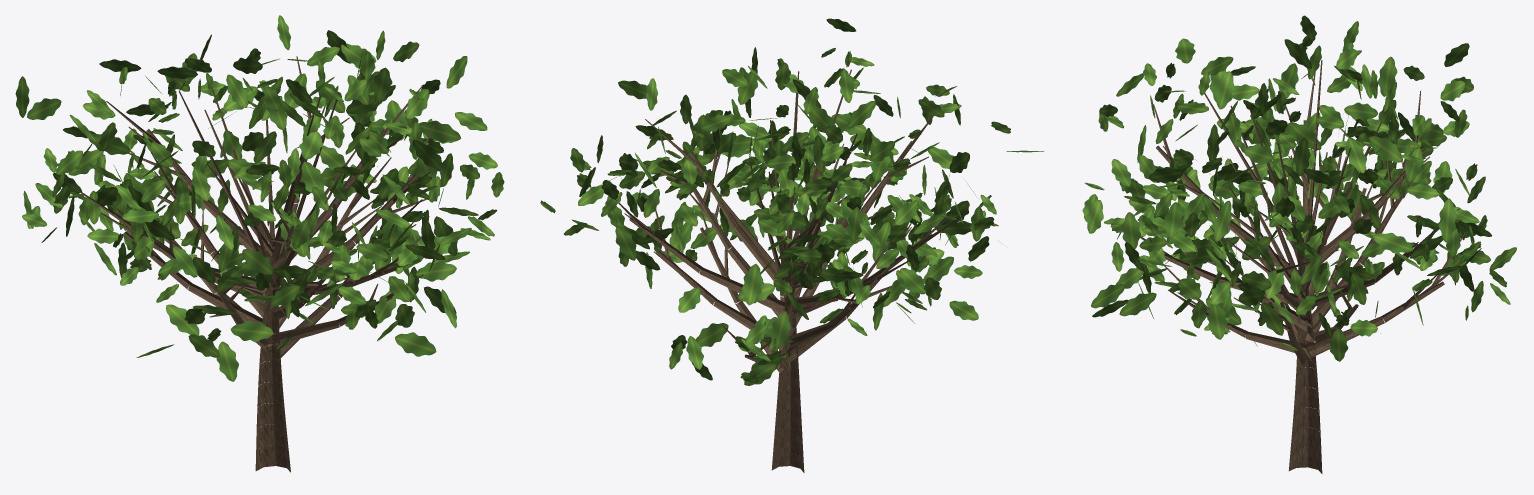
Rendered from oak-distance.glb.
3 renders of one model, left to right at view 1: azimuth 30°, elevation 25°; view 2: azimuth 150°, elevation 25°; view 3: azimuth 270°, elevation 25°, orthographic. The views are drawn at different scales.
Parts seen in each view (by area): view 1: foliage, bark; view 2: foliage, bark; view 3: foliage, bark.
Part boxes in pixels (box(x1,y1,x2,y2)): foliage: box(15, 15, 504, 381); bark: box(72, 56, 434, 472); foliage: box(540, 18, 1043, 385); bark: box(615, 69, 962, 472); foliage: box(1082, 15, 1516, 361); bark: box(1140, 60, 1465, 473).
Bounding box in the file's own units: 11.08 × 10.17 × 9.44.
2 materials, 2 textured.
